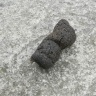Dog: (32, 18, 76, 68)
